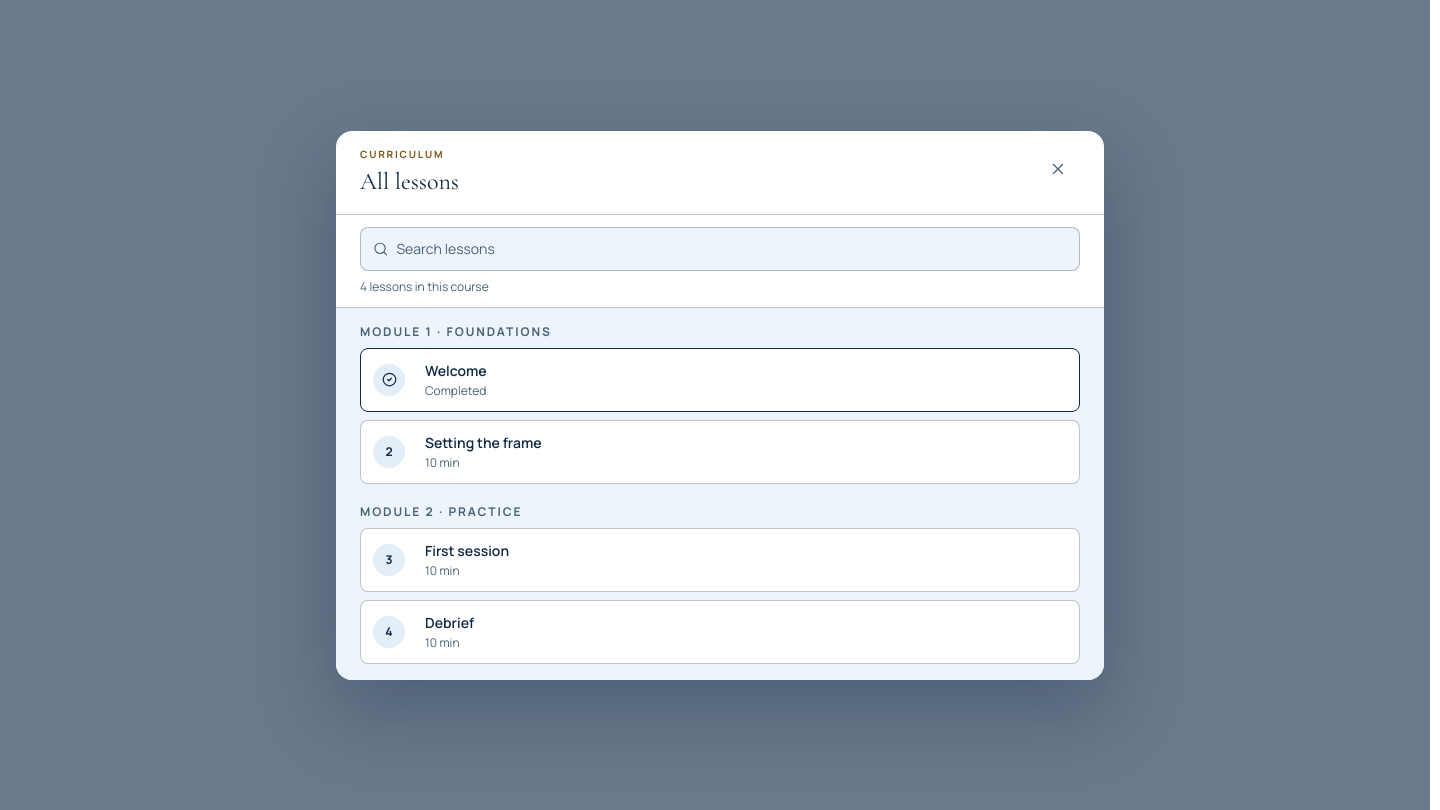
Test: LessonListOverlay › keeps absolute lesson numbers while the search filters the list
Type "debrief" into the search field. click: x=732, y=248
box: [396, 238, 1067, 258]
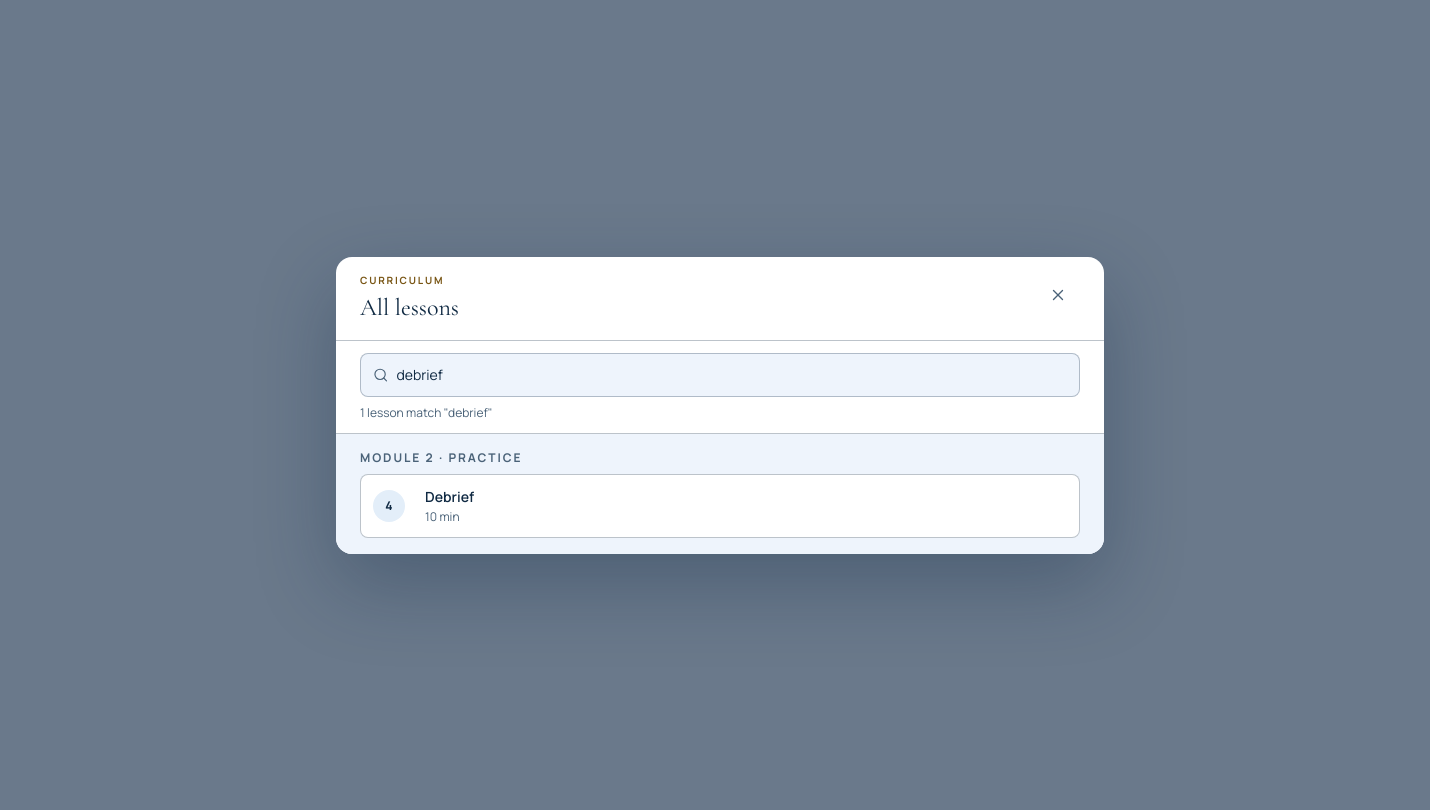
Expected: the button "4 Debrief 10 min" is shown, [360, 474, 1080, 538]
Now the button "Welcome" is gone
